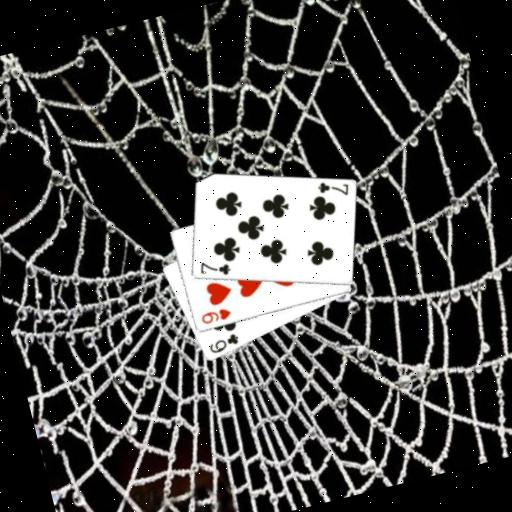6C: (204, 330, 243, 357)
7C: (313, 173, 353, 204), (194, 253, 233, 284)
9H: (197, 304, 234, 327)
